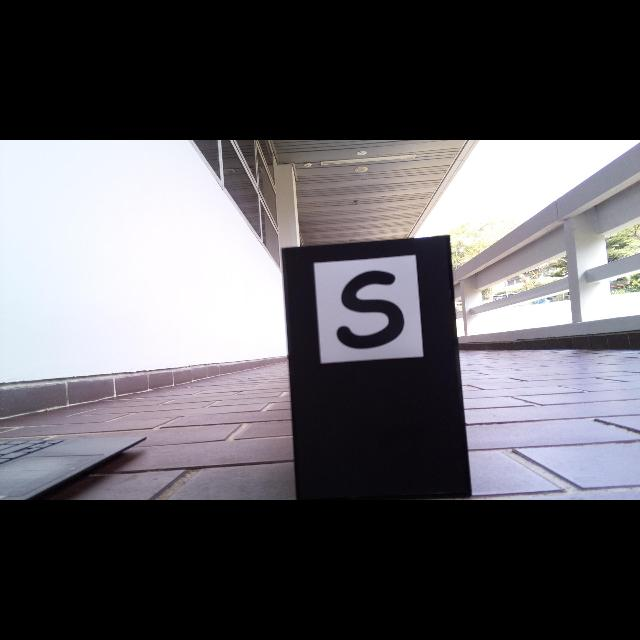S: (335, 271, 406, 349)
